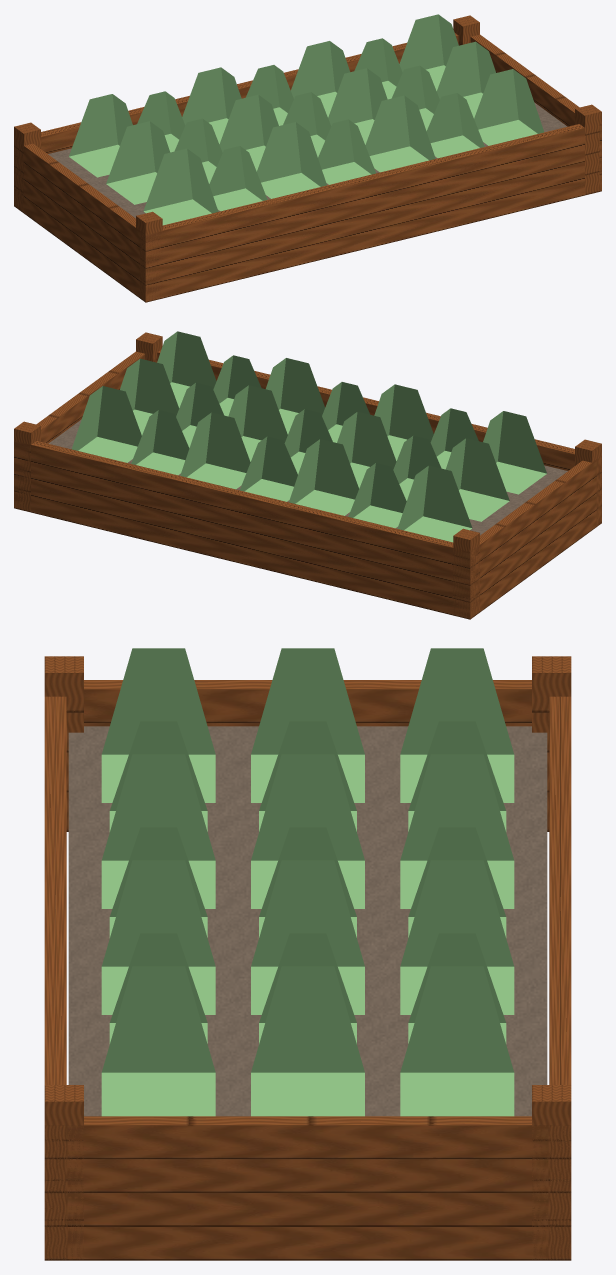
The model's file is allotments-and-community-garden-raised-bed-planted-cae41071__35132.glb.
The picture shows the model from 3 angles, top to bottom: view 1: azimuth 30°, elevation 25°; view 2: azimuth 150°, elevation 25°; view 3: azimuth 270°, elevation 25°; orthographic projection. The views are drawn at different scales.
Parts seen in each view (by area): view 1: raised-bed-planted-leaf, raised-bed-planted-timber, raised-bed-planted-soil; view 2: raised-bed-planted-leaf, raised-bed-planted-timber, raised-bed-planted-soil; view 3: raised-bed-planted-leaf, raised-bed-planted-timber, raised-bed-planted-soil.
Boxes of the visible parts, <box> form: raised-bed-planted-leaf: <box>69,14,543,225</box>; raised-bed-planted-timber: <box>14,15,601,302</box>; raised-bed-planted-soil: <box>48,102,567,218</box>; raised-bed-planted-leaf: <box>72,331,546,542</box>; raised-bed-planted-timber: <box>14,332,601,619</box>; raised-bed-planted-soil: <box>48,419,567,535</box>; raised-bed-planted-leaf: <box>101,648,514,1116</box>; raised-bed-planted-timber: <box>44,656,571,1260</box>; raised-bed-planted-soil: <box>68,726,547,1116</box>.
Bounding box in the file's own units: 2.4 × 0.552 × 1.2.
3 materials, 2 textured.
